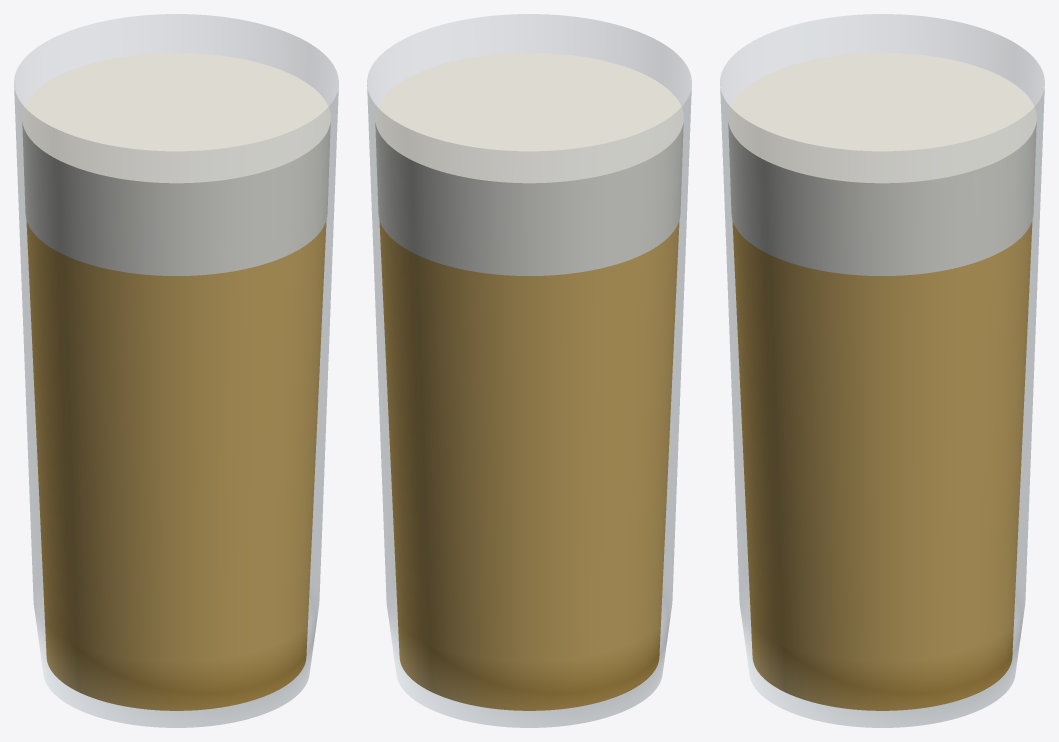
File: bebida-1-hero.glb
3 renders of one model, left to right at view 1: azimuth 30°, elevation 25°; view 2: azimuth 150°, elevation 25°; view 3: azimuth 270°, elevation 25°, orthographic.
Size of the model in its own units: 0.075 by 0.15 by 0.075.
